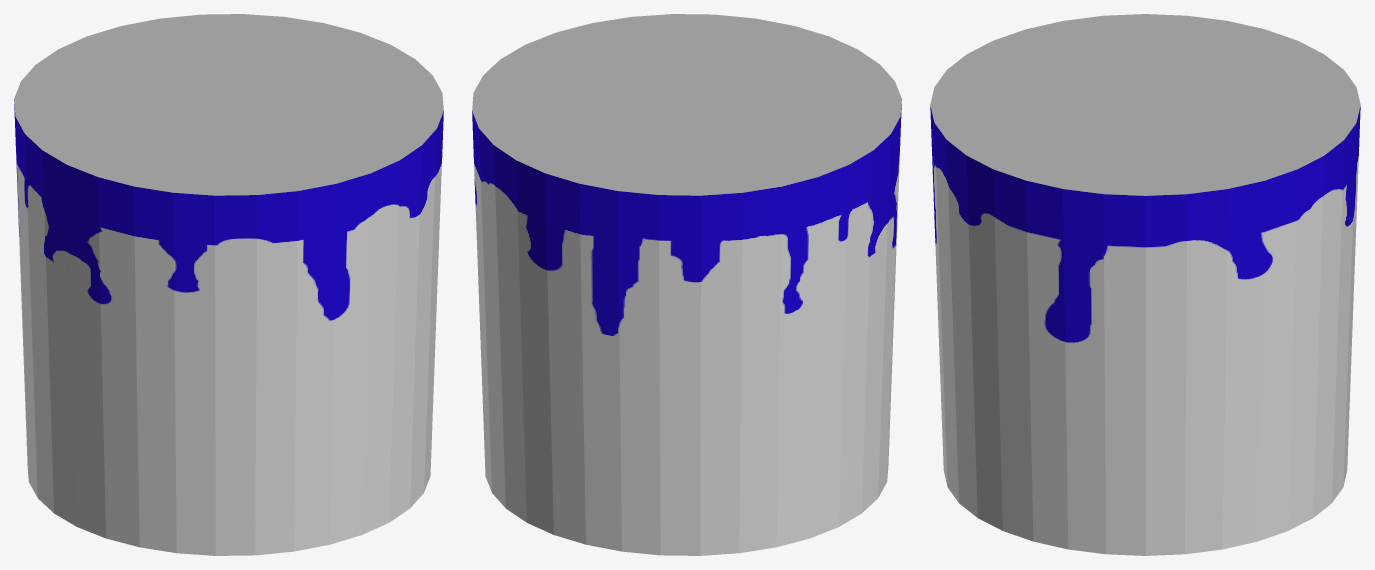
The model's file is volcano_paint_bucket.fbx.
3 views of the same model, side by side, from view 1: azimuth 30°, elevation 25°; view 2: azimuth 150°, elevation 25°; view 3: azimuth 270°, elevation 25° (orthographic).
Visible parts, largest first — view 1: paint_bucket; view 2: paint_bucket; view 3: paint_bucket.
Boxes of the visible parts, left/top/right/bottom form: paint_bucket: left=14, top=14, right=443, bottom=555; paint_bucket: left=472, top=14, right=901, bottom=555; paint_bucket: left=930, top=14, right=1360, bottom=555.
Size of the model in its own units: 32 by 30 by 32.
